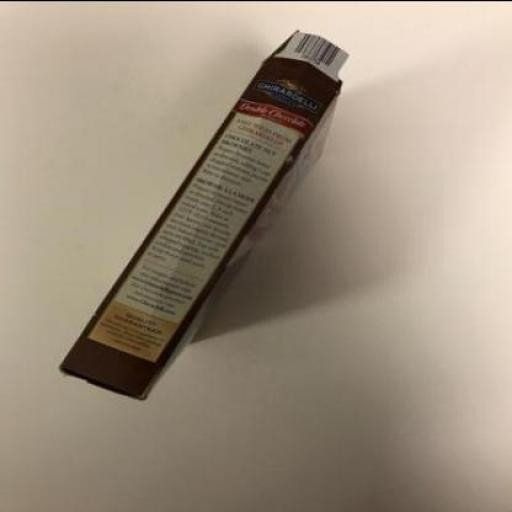cardboard: (60, 26, 352, 397)
